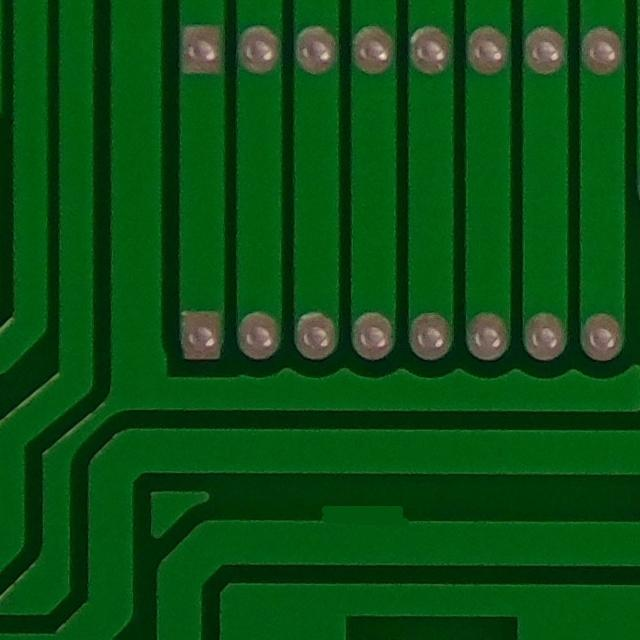spur: (291, 490, 431, 537)
